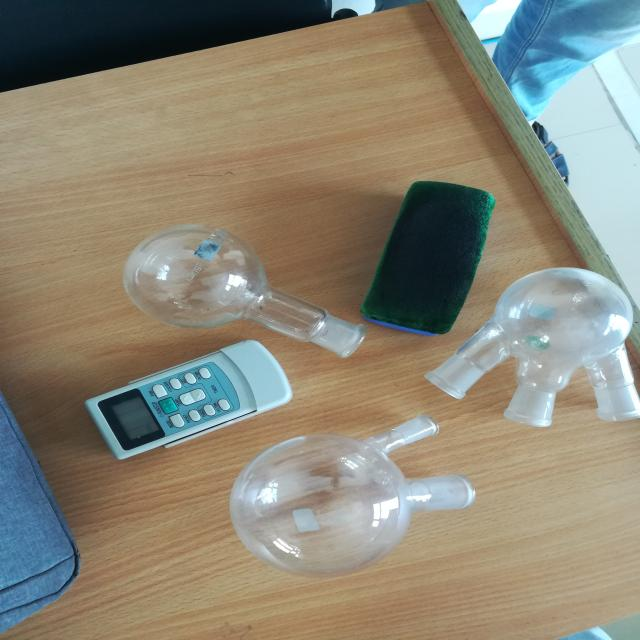Round_Bottom_Flask_Borosilicate_Glass_1_Neck: (110, 186, 389, 386)
Round_Bottom_Flask_Borosilicate_Glass_2_Neck: (205, 389, 483, 607)
Round_Bottom_Flask_Borosilicate_Glass_3_Neck: (420, 255, 640, 449)
